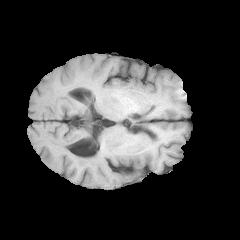glioma: (77, 136, 160, 170)
